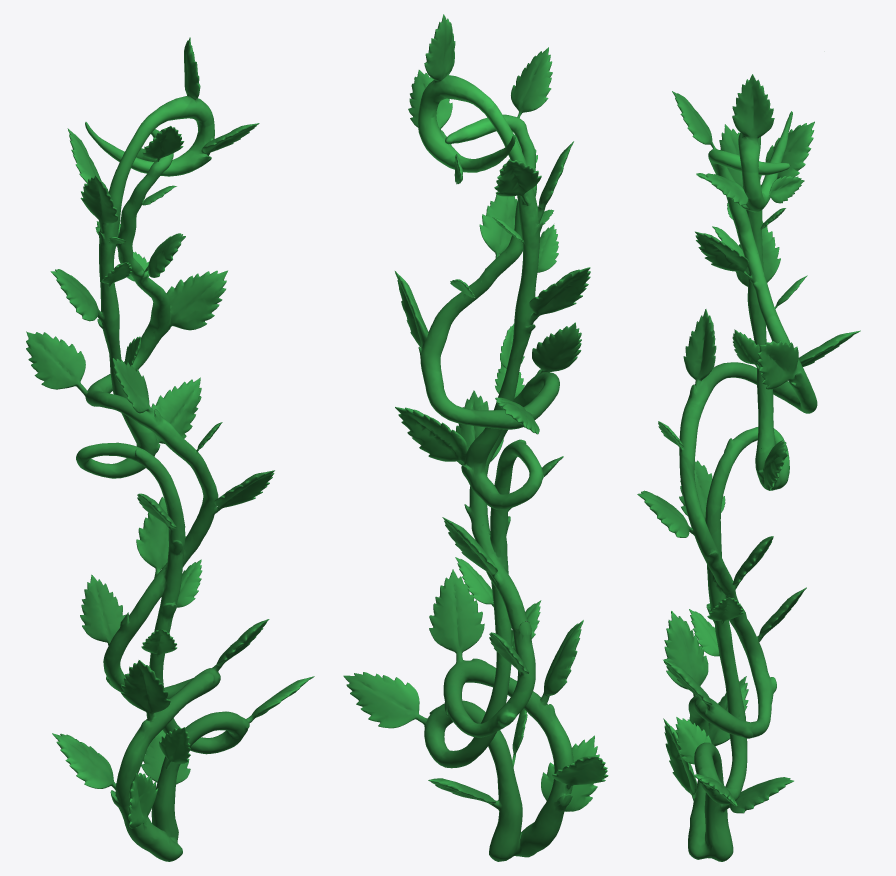
File: helixVineWithLeaves.fbx
3 views of the same model, side by side, from view 1: azimuth 30°, elevation 25°; view 2: azimuth 150°, elevation 25°; view 3: azimuth 270°, elevation 25° (orthographic). The views are drawn at different scales.
Visible parts, largest first — view 1: Layer_1; view 2: Layer_1; view 3: Layer_1.
Boxes of the visible parts, x1=… form: Layer_1: x1=26, y1=37, x2=314, y2=861; Layer_1: x1=343, y1=14, x2=608, y2=861; Layer_1: x1=637, y1=74, x2=860, y2=861.
Size of the model in its own units: 310 by 944 by 258.
1 material, 1 textured.
